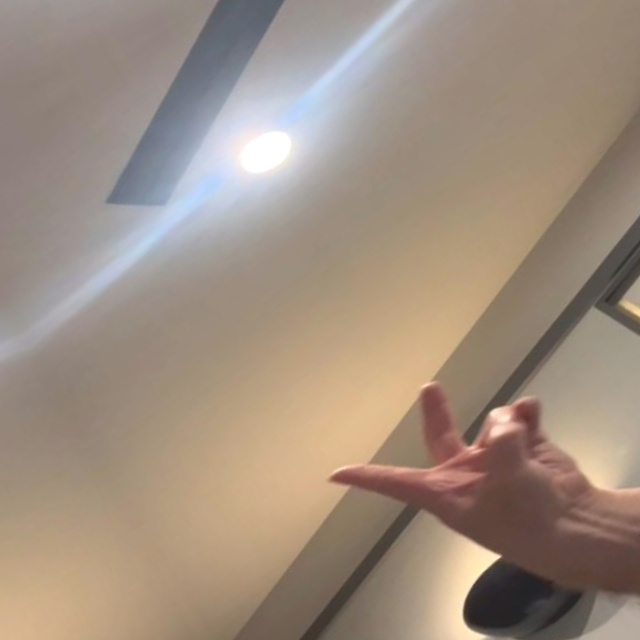Scissors: (0, 633, 92, 640)
